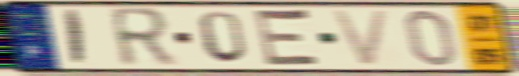0: (402, 8, 459, 69), (195, 10, 249, 66)
E: (252, 6, 325, 70)
I: (65, 8, 88, 67)
R: (105, 5, 180, 70)
V: (328, 8, 393, 69)
